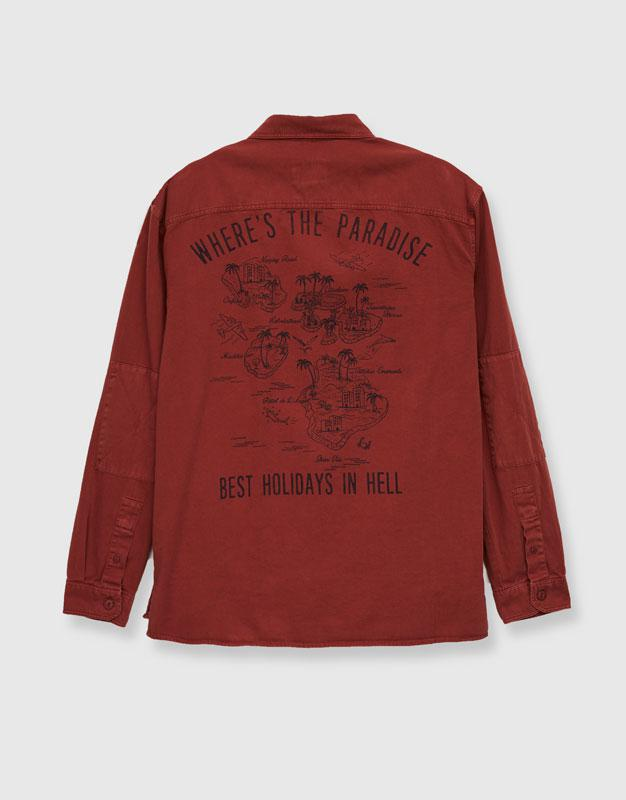teeshirt: (51, 109, 581, 666)
